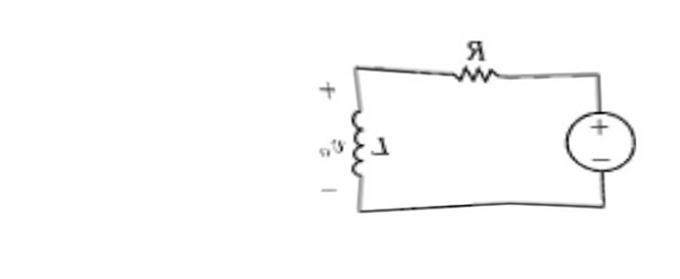Battery: (545, 95, 650, 190)
